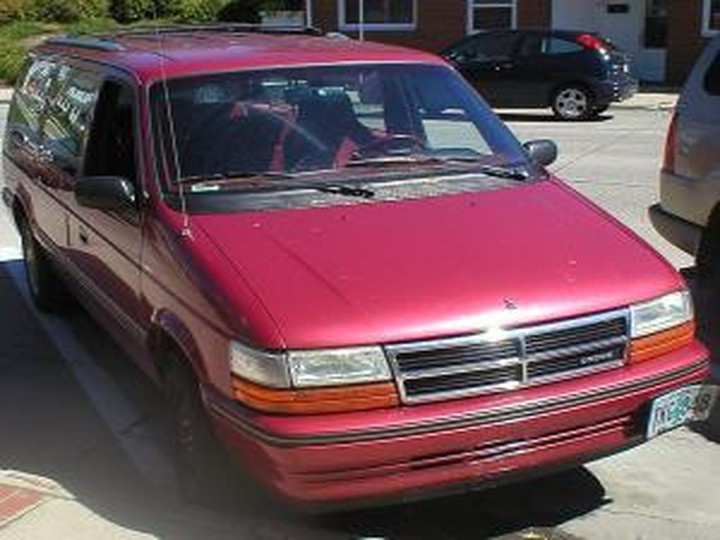car: (2, 23, 717, 516)
